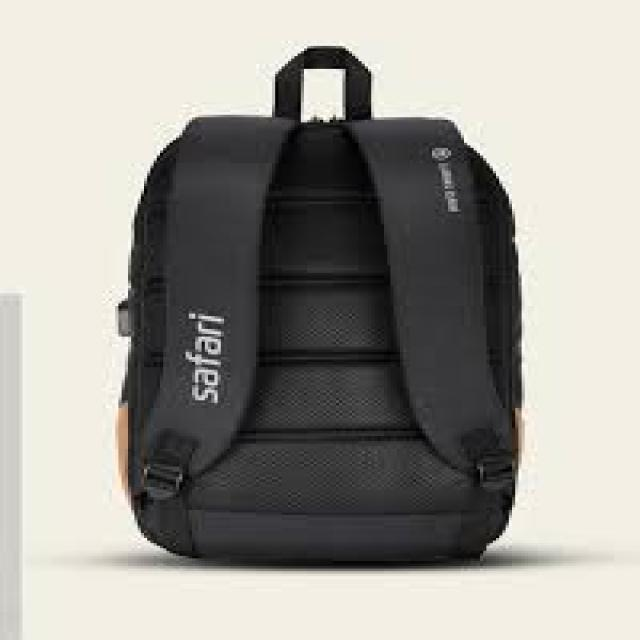backpack: (112, 44, 525, 564)
